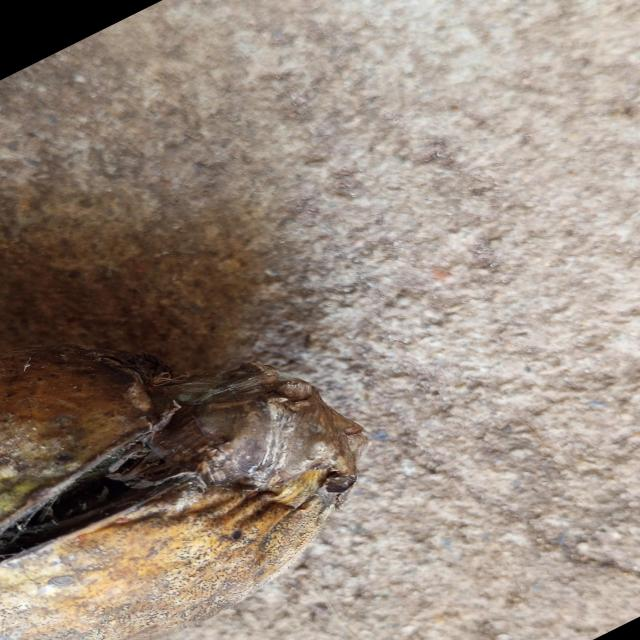damaged: (0, 345, 367, 640)
